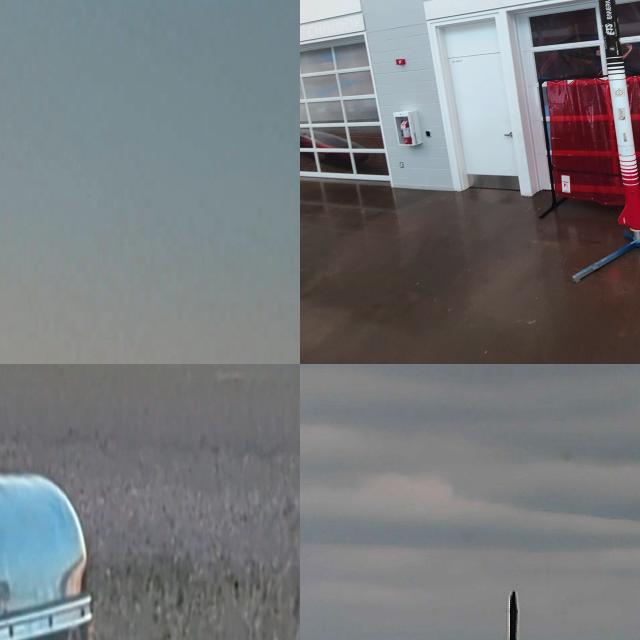Rocket: (598, 0, 640, 230), (503, 588, 523, 640)
